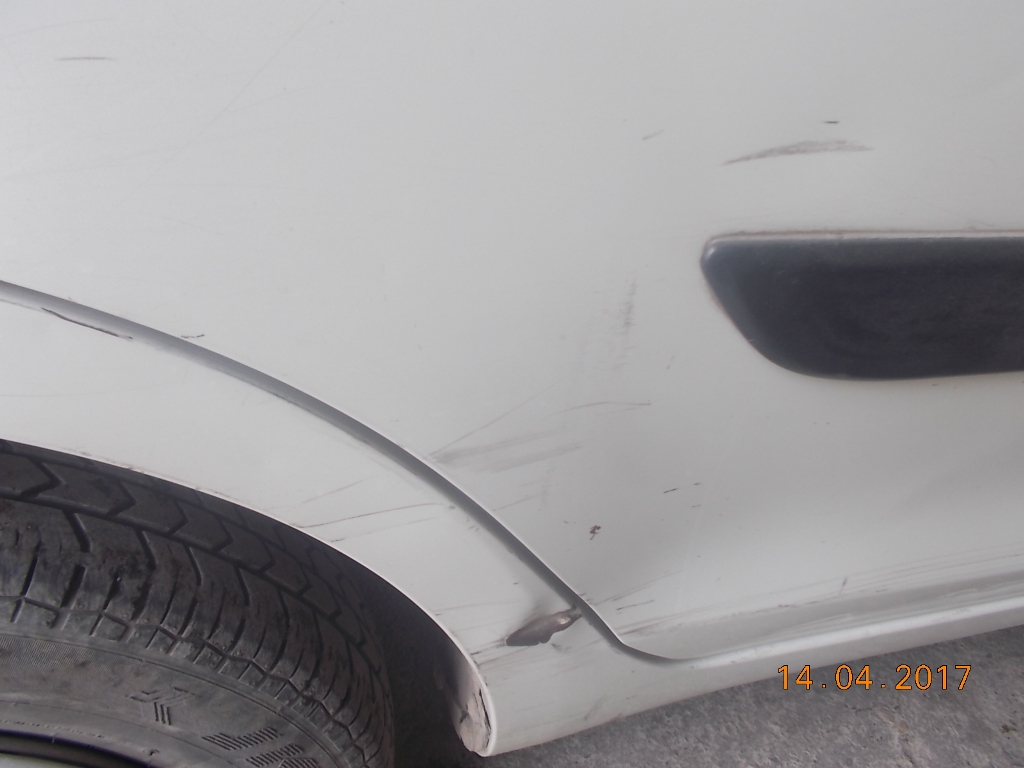Dent: (501, 605, 573, 674)
